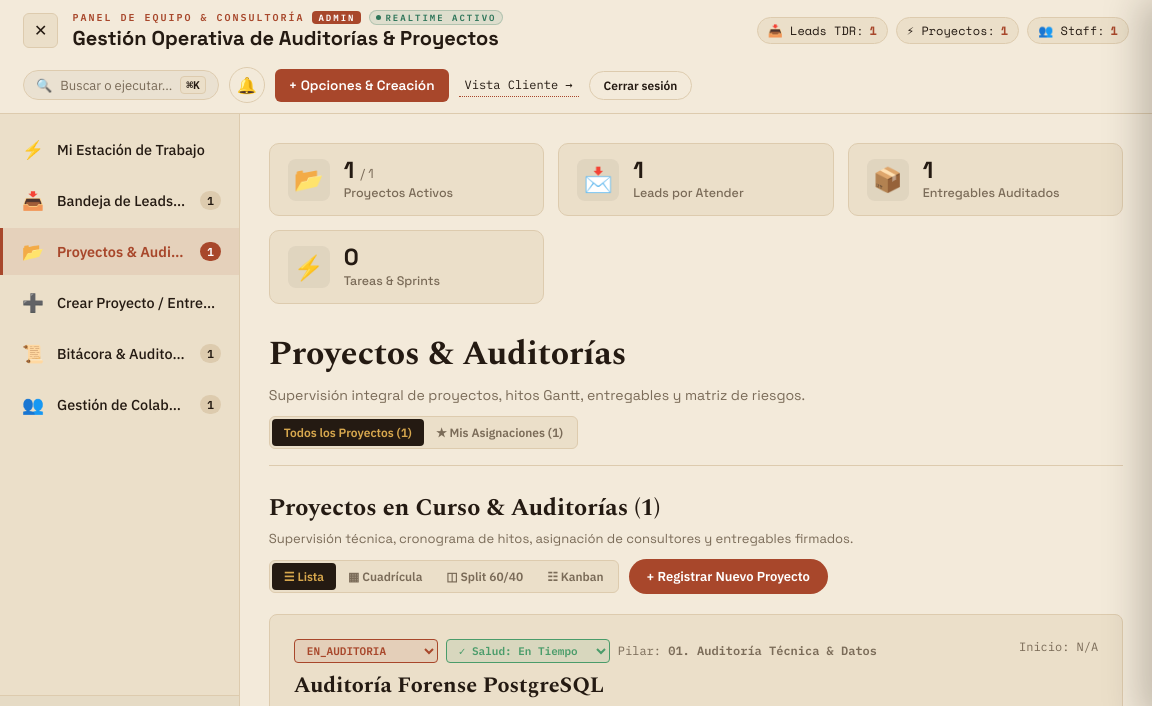
Test case: Equipo Console Component › toggles sidebar collapse and expansion
Check: the heading "Gestión Operativa de Auditorías & Proyectos" is shown, box [72,25,503,51]
Click the button named "Colapsar barra lateral".
click(41, 30)  # box [23,13,58,48]
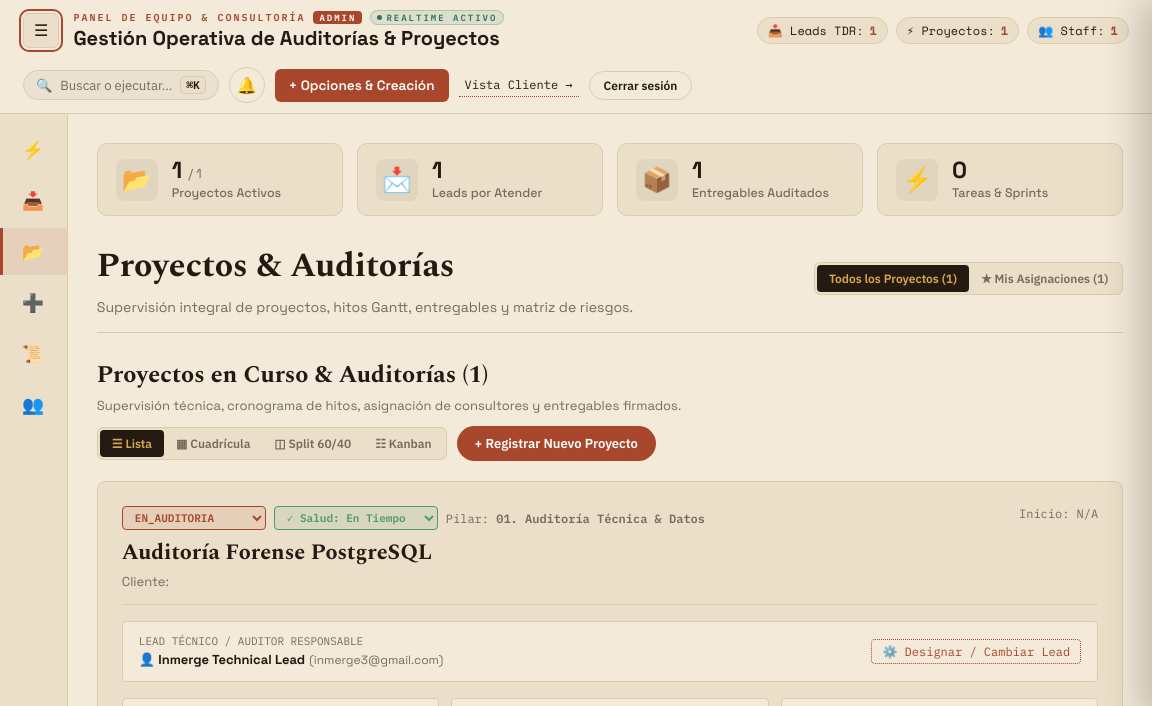
Check: the button named "Expandir barra lateral" is shown
Click the button named "Expandir barra lateral".
click(41, 30)  # box [23,13,59,48]
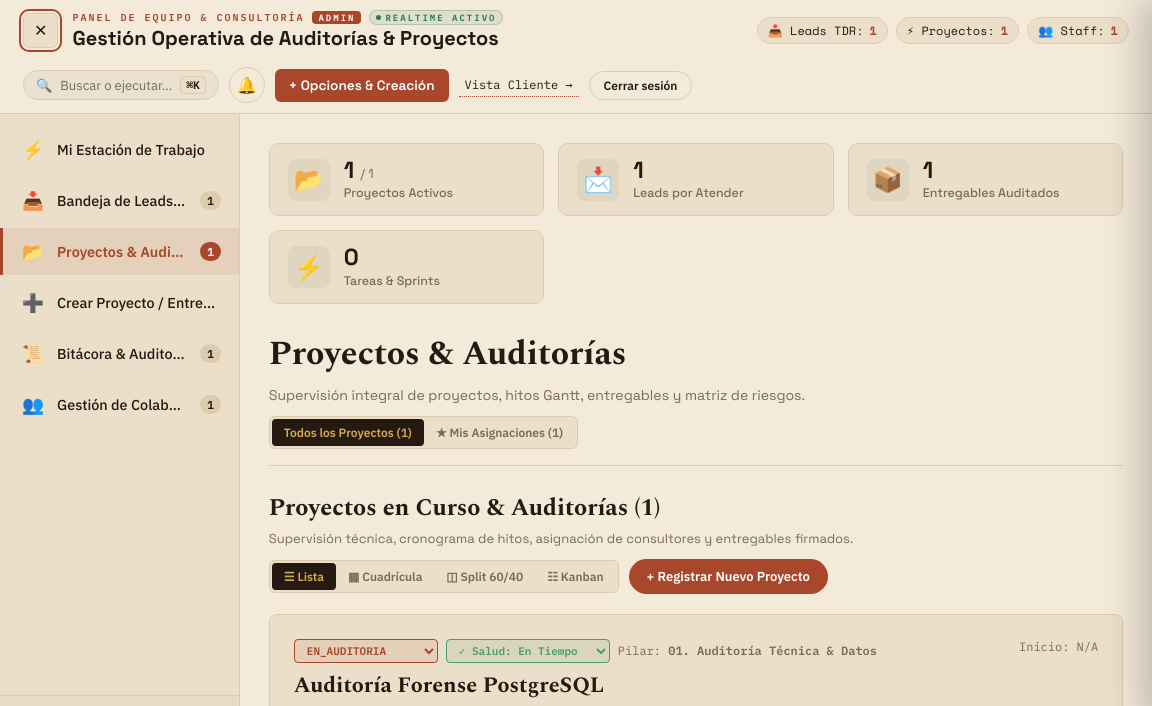
Check: the button named "Colapsar barra lateral" is shown, box [23,13,58,48]
